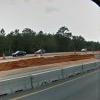Tree: (11, 18, 72, 55)
